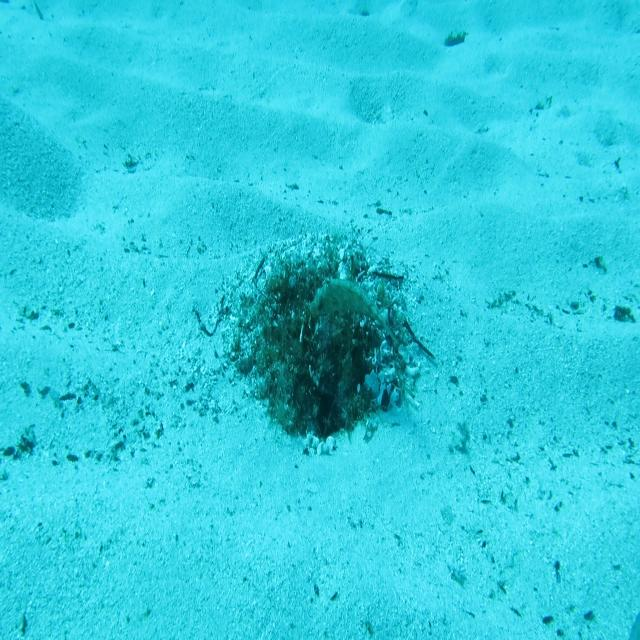BK_SW: (308, 275, 399, 347)
core_nest: (293, 284, 341, 320)
female: (629, 611, 640, 640)
nest: (224, 231, 437, 472)
vegetation: (442, 25, 468, 51)
